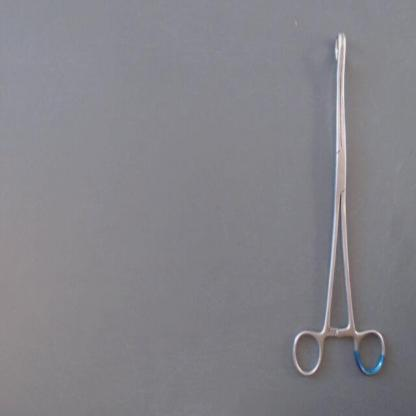Sponge Forceps: (286, 25, 391, 384)
